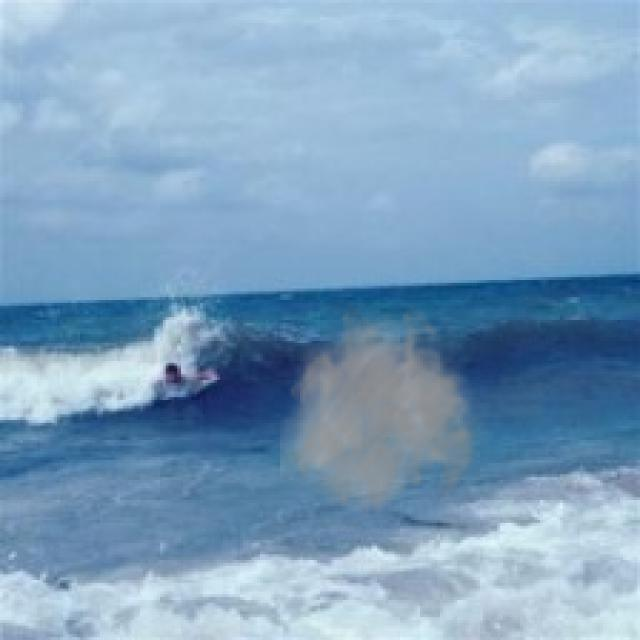Smoke: (279, 303, 492, 520)
